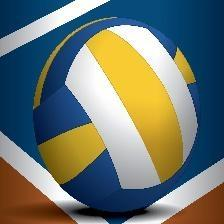Sports-Ball: (33, 16, 201, 213)
